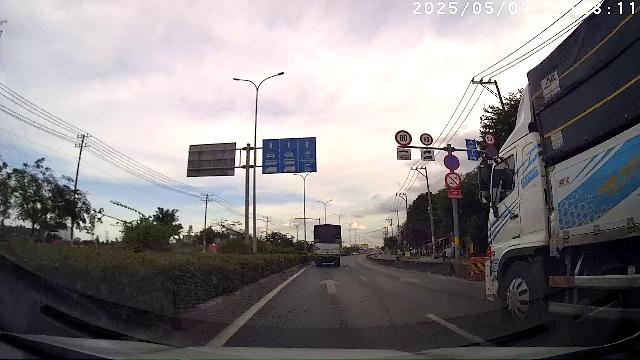127-toc-do-toi-da-50: (483, 132, 496, 145)
127-toc-do-toi-da-60: (419, 132, 434, 145)
127-toc-do-toi-da-80: (394, 129, 412, 145)
130-cam-dung-va-do-xe: (443, 153, 460, 170)
